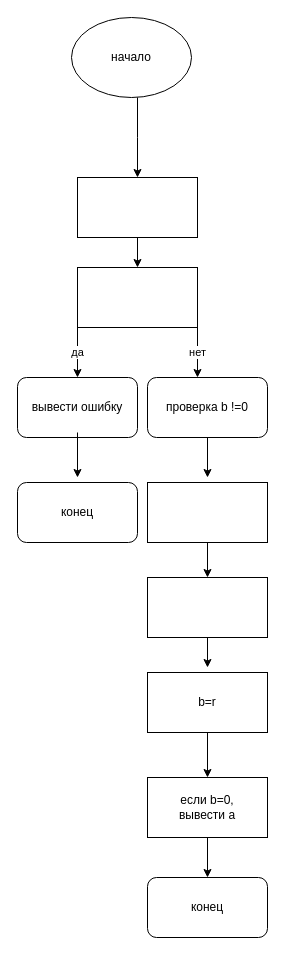
Image size: 285x955. Some labels were removed from this diagram. The shapes that lost their labels are listed below. From the top down, each one's centre as x and y in pixels, then its label:
At pixel 137 207: "ввод a,b".
At pixel 137 297: "a<0 или b <0 или a=0 и b=0?".
At pixel 207 512: "r = a%b".
At pixel 207 607: "a=b".
